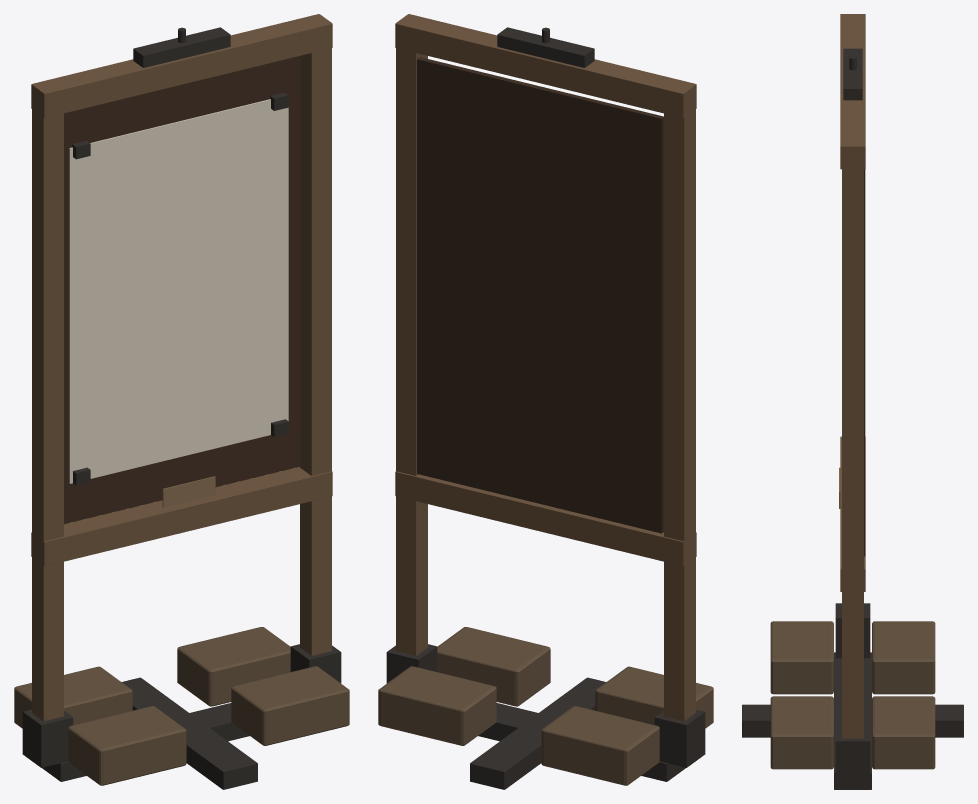
The model's file is tr_target.glb.
3 renders of one model, left to right at view 1: azimuth 30°, elevation 25°; view 2: azimuth 150°, elevation 25°; view 3: azimuth 270°, elevation 25°, orthographic. The views are drawn at different scales.
Visible parts, largest first — view 1: tr_target; view 2: tr_target; view 3: tr_target.
Part boxes in pixels (x1,y1,x2,y2): tr_target: (14, 14, 349, 789); tr_target: (378, 14, 713, 789); tr_target: (742, 14, 963, 789).
Bounding box in the file's own units: 1.03 × 2.34 × 0.6999.
